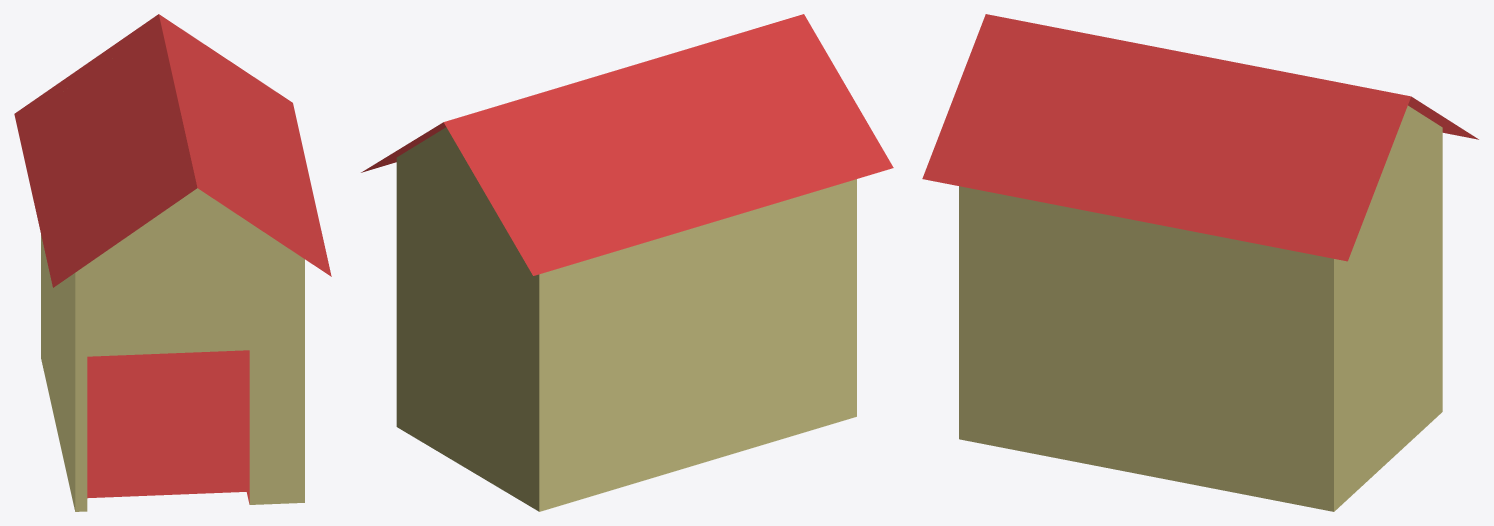
3 renders of one model, left to right at view 1: azimuth 30°, elevation 25°; view 2: azimuth 150°, elevation 25°; view 3: azimuth 270°, elevation 25°, orthographic. The views are drawn at different scales.
Bounding box in the file's own units: 17.34 × 20.02 × 14.77.
